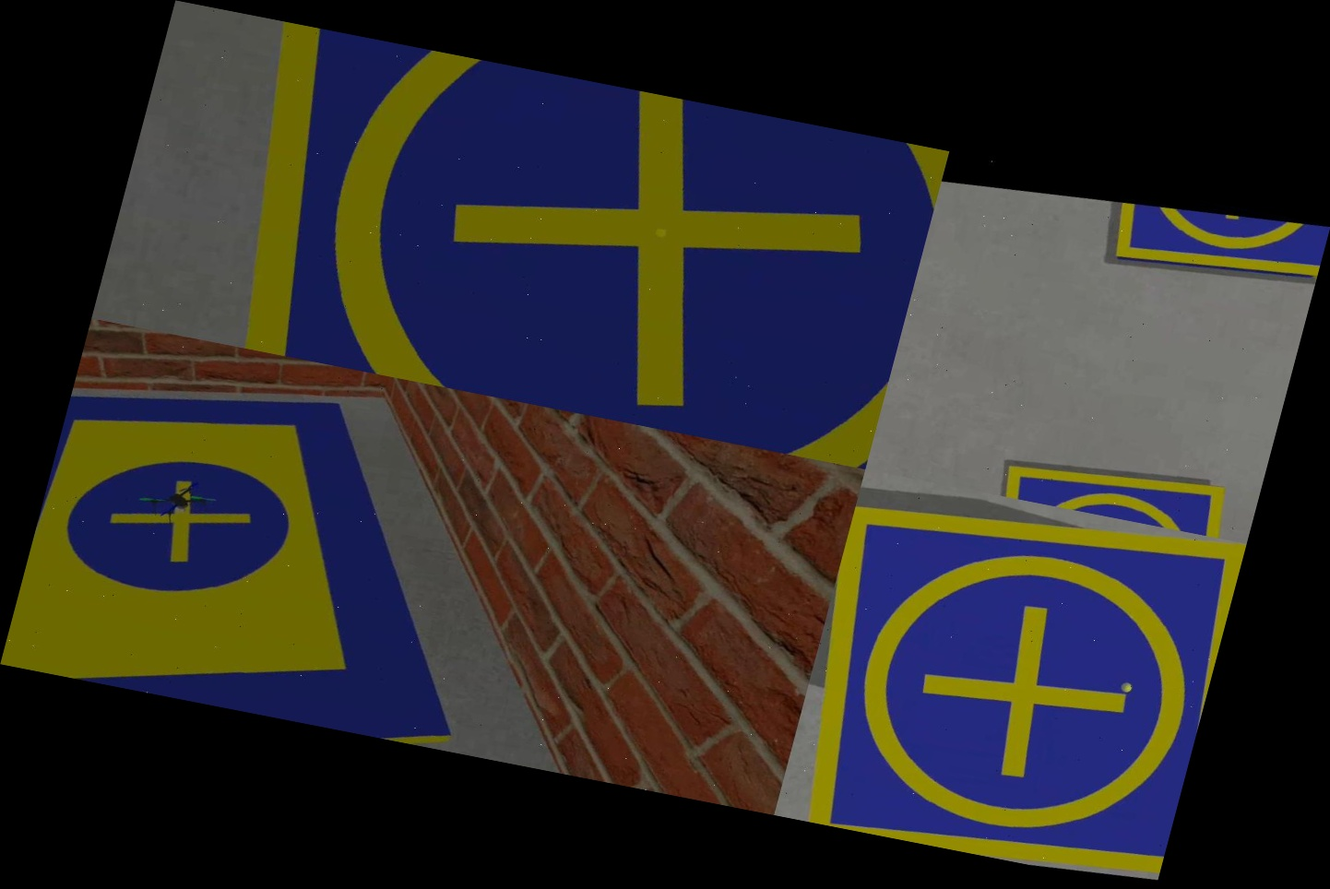large_base: (0, 339, 542, 753)
small_base: (179, 18, 949, 469), (774, 469, 1245, 889), (1109, 186, 1330, 296), (1002, 445, 1248, 541)
